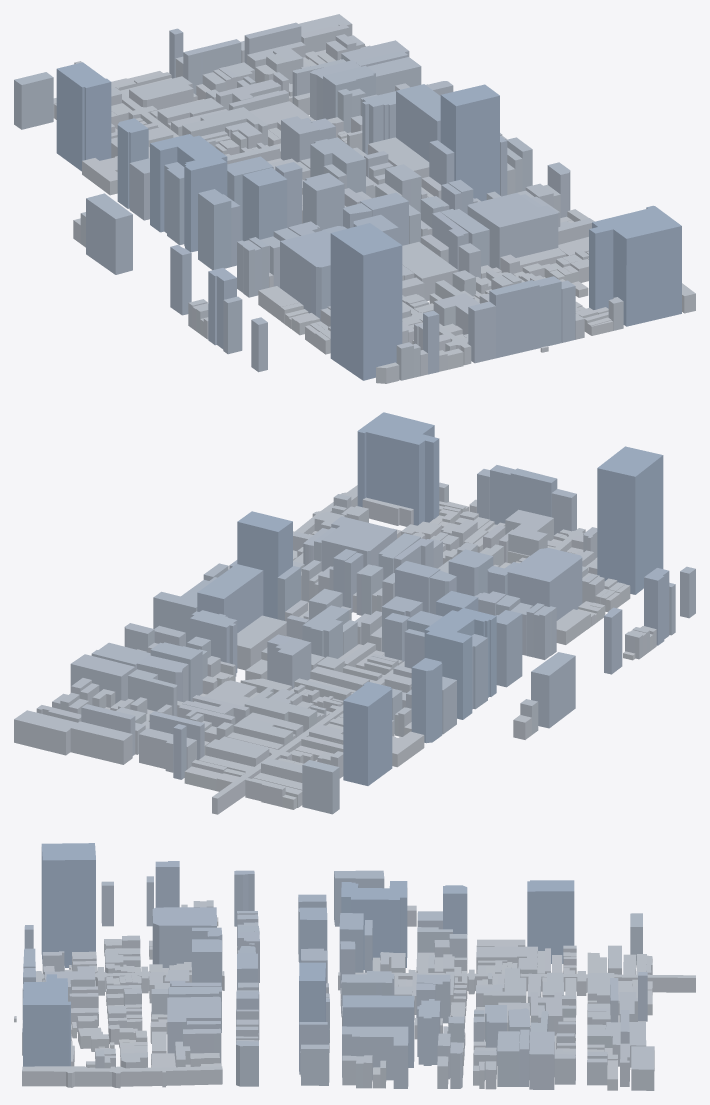
The picture shows the model from 3 angles, top to bottom: view 1: azimuth 30°, elevation 25°; view 2: azimuth 150°, elevation 25°; view 3: azimuth 270°, elevation 25°; orthographic projection. The views are drawn at different scales.
Bounding box in the file's own units: 306 × 89.21 × 512.
